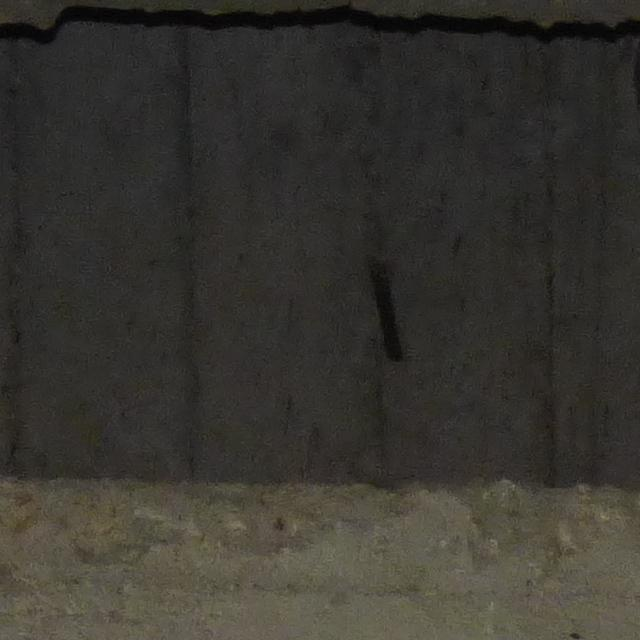Rust: (372, 274, 407, 360)
